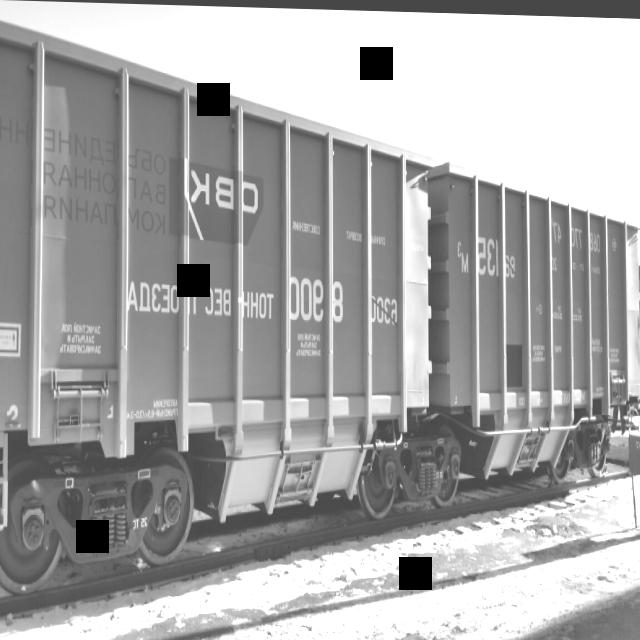gondola: (0, 0, 432, 614), (432, 143, 640, 508)
